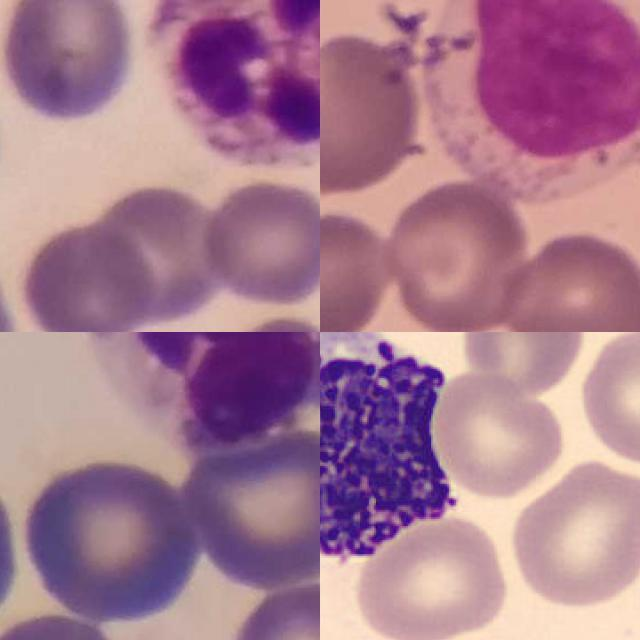Basophil: (320, 332, 468, 584)
Eosinophil: (69, 332, 320, 444)
Lymphocyte: (426, 0, 640, 203)
Neutrophil: (154, 0, 320, 171)
RBC: (349, 513, 512, 640), (505, 457, 640, 608), (431, 373, 566, 503), (575, 332, 640, 469), (457, 332, 587, 397)
